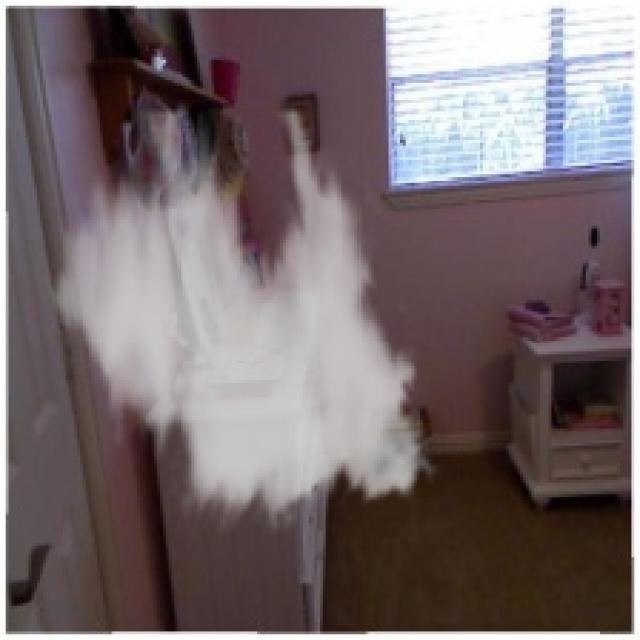smoke: (40, 109, 446, 534)
